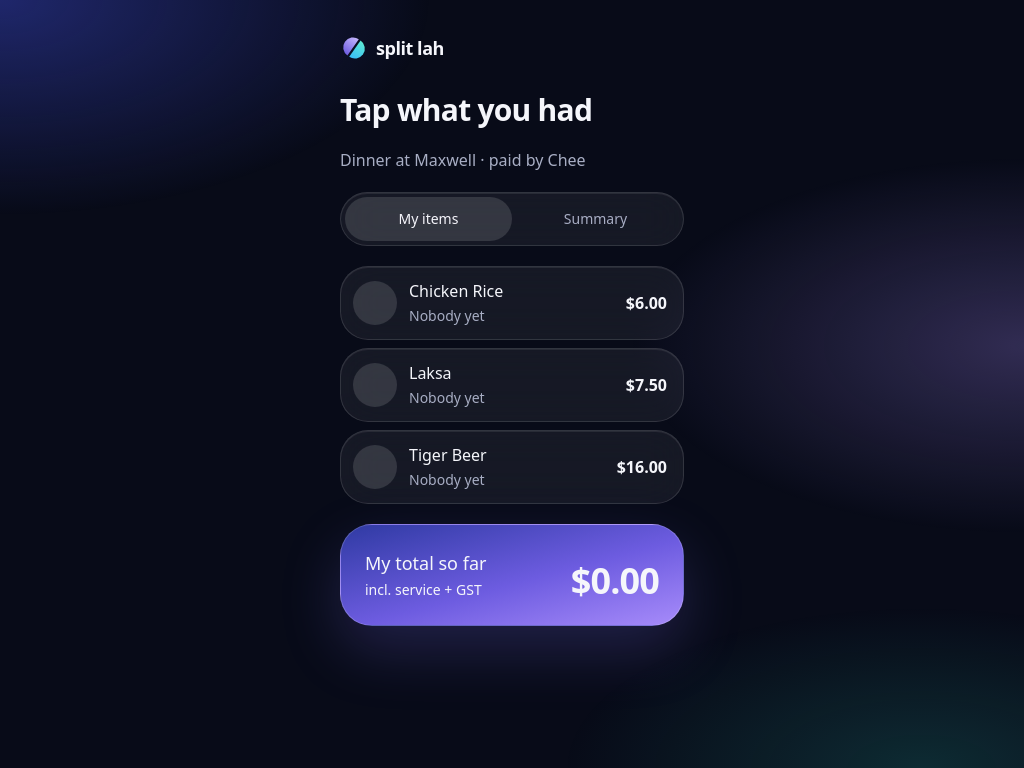
Test: Tapping what you had › asks for the name again when the guest token has run out, without logging the owner out
Click the button "Laksa Nobody yet $7.50".
click(375, 385)  # box [340,348,684,422]
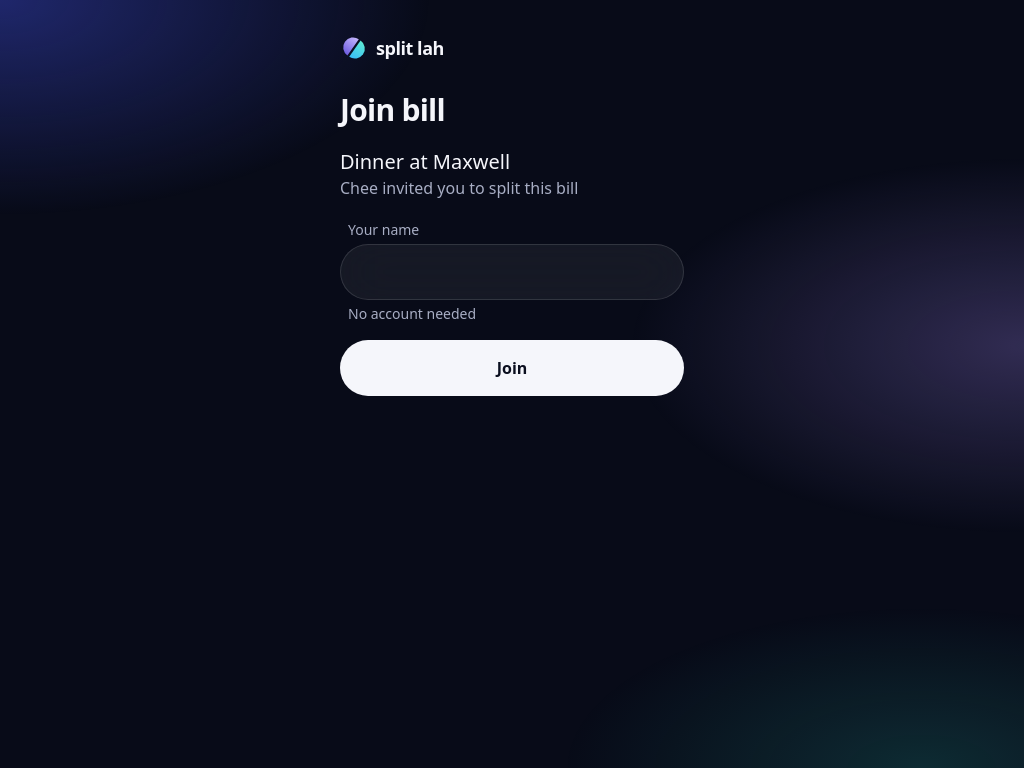
Now the field labelled "Your name" is shown, box [340,244,684,300]
